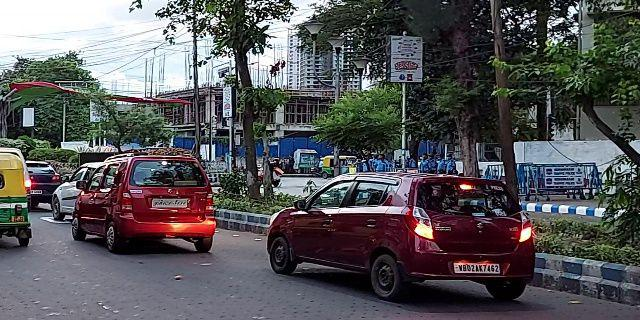Autorickshaw: (1, 147, 35, 249)
Car: (261, 162, 546, 310), (67, 151, 225, 250), (27, 151, 65, 219)
